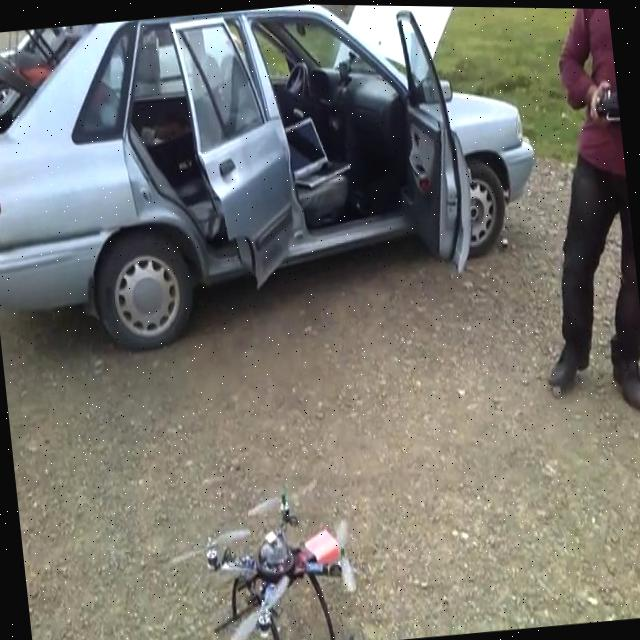drone: (188, 480, 361, 640)
